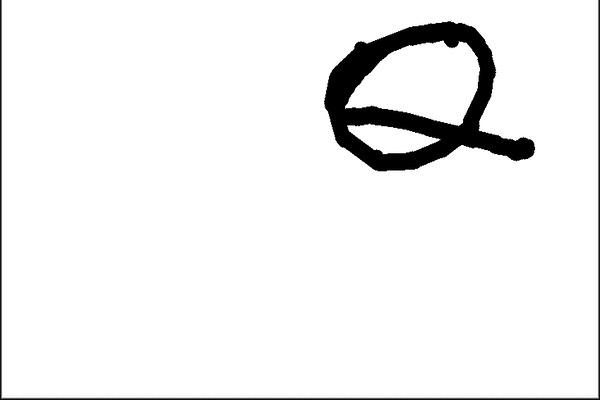Q: (309, 9, 545, 185)
